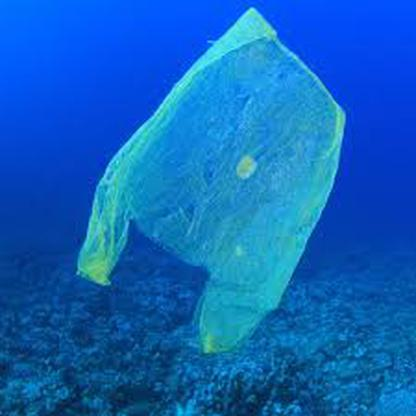plastic bag: (76, 5, 346, 358)
